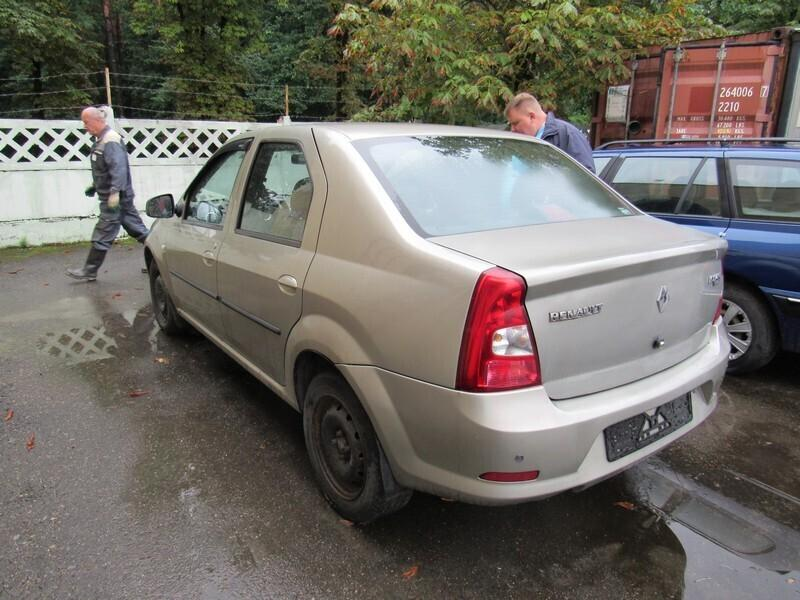Logan_2008-2015: (140, 116, 728, 527)
